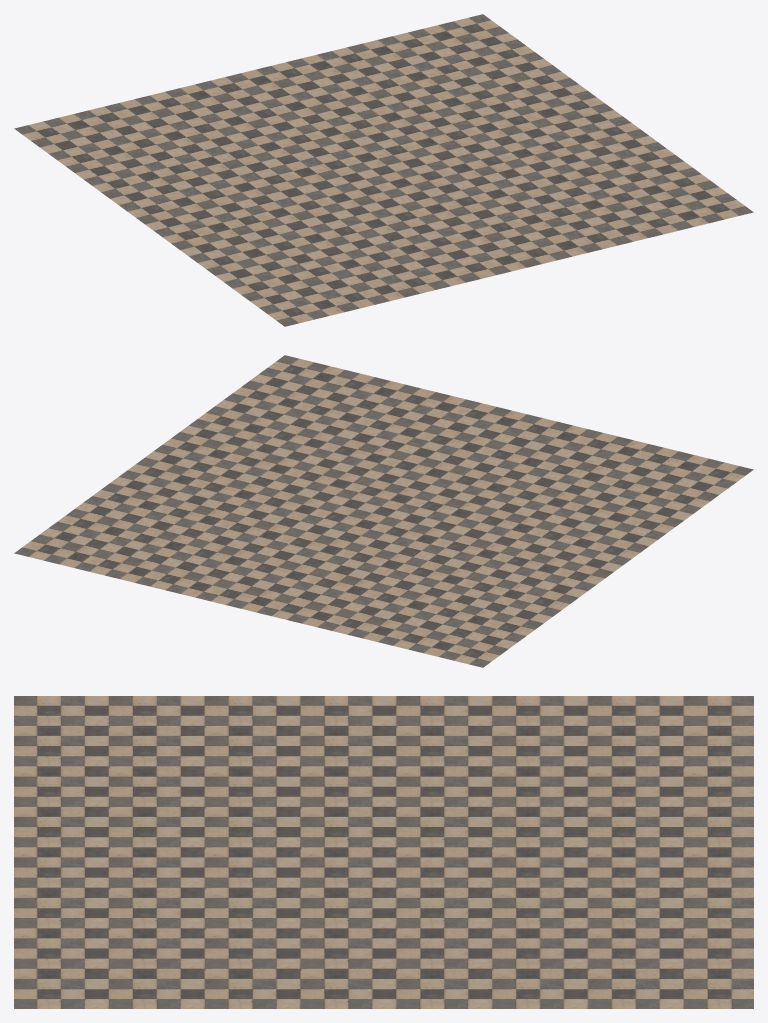
The model's file is chao.obj.
3 renders of one model, top to bottom at view 1: azimuth 30°, elevation 25°; view 2: azimuth 150°, elevation 25°; view 3: azimuth 270°, elevation 25°, orthographic. The views are drawn at different scales.
Visible parts, largest first — view 1: chao; view 2: chao; view 3: chao.
Boxes of the visible parts, left/top/right/bottom form: chao: left=14, top=14, right=753, bottom=326; chao: left=14, top=355, right=753, bottom=667; chao: left=14, top=696, right=753, bottom=1008.
Bounding box in the file's own units: 50 × 0 × 50.
1 material, 1 textured.
